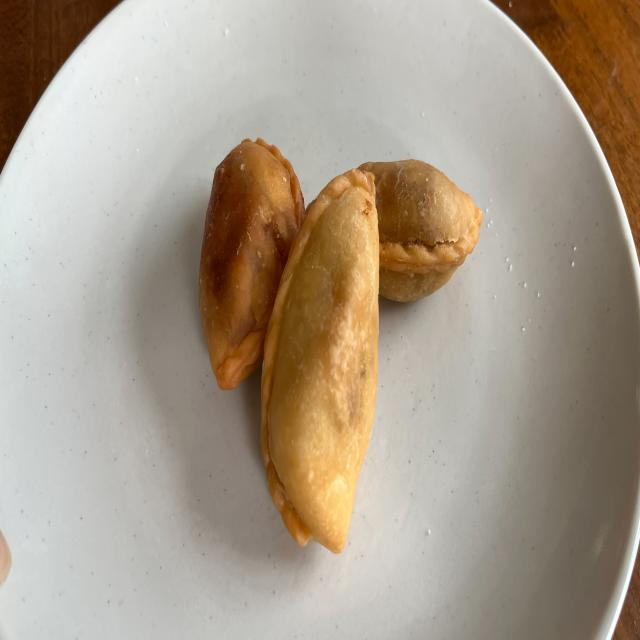karipap: (261, 169, 379, 553), (199, 138, 305, 389), (360, 160, 482, 302)
